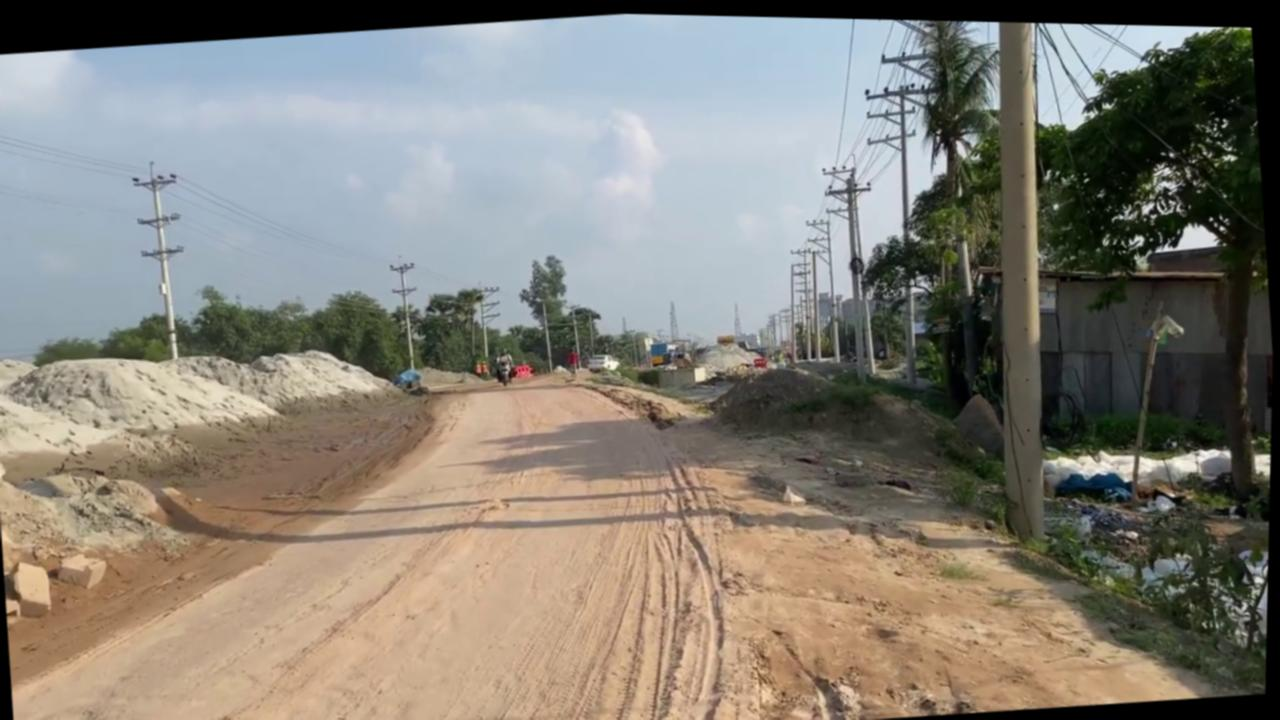Light-pole: (126, 157, 195, 361)
Motorcycle: (494, 355, 514, 385)
Obstacle: (1113, 301, 1201, 501)
Pole: (959, 17, 1080, 540), (858, 77, 958, 384), (819, 161, 888, 382)
Rickshaw: (578, 336, 1017, 720)
Traffic-sign: (1016, 18, 1280, 508), (883, 16, 1030, 409), (514, 249, 575, 373)
Tree: (472, 345, 537, 386), (648, 334, 698, 368), (392, 365, 433, 402), (649, 338, 673, 364), (474, 357, 490, 375), (716, 330, 736, 342)
